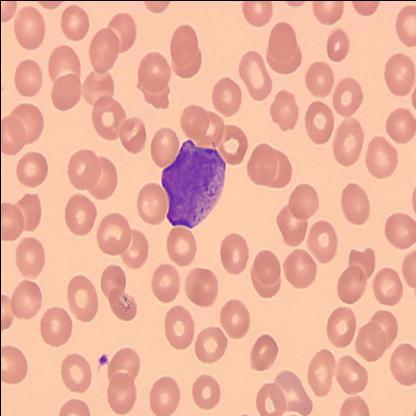Promyelocyte: (160, 138, 226, 228)
